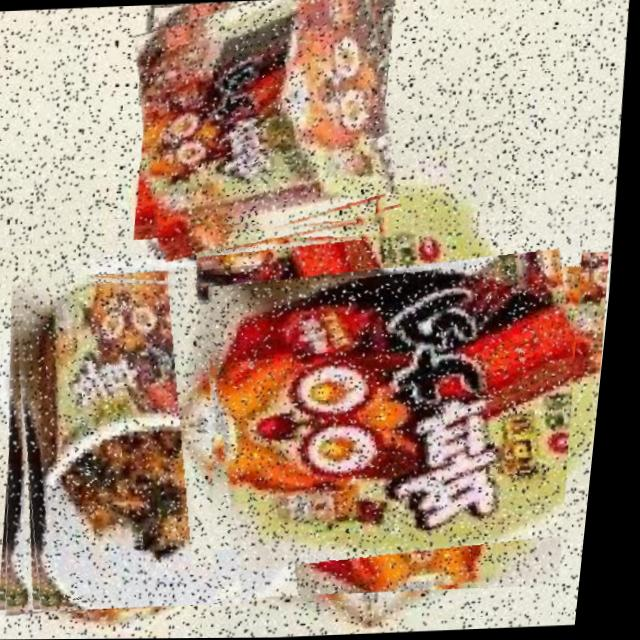Miscellaneous: (180, 208, 602, 600), (0, 262, 290, 614), (123, 0, 412, 254)
